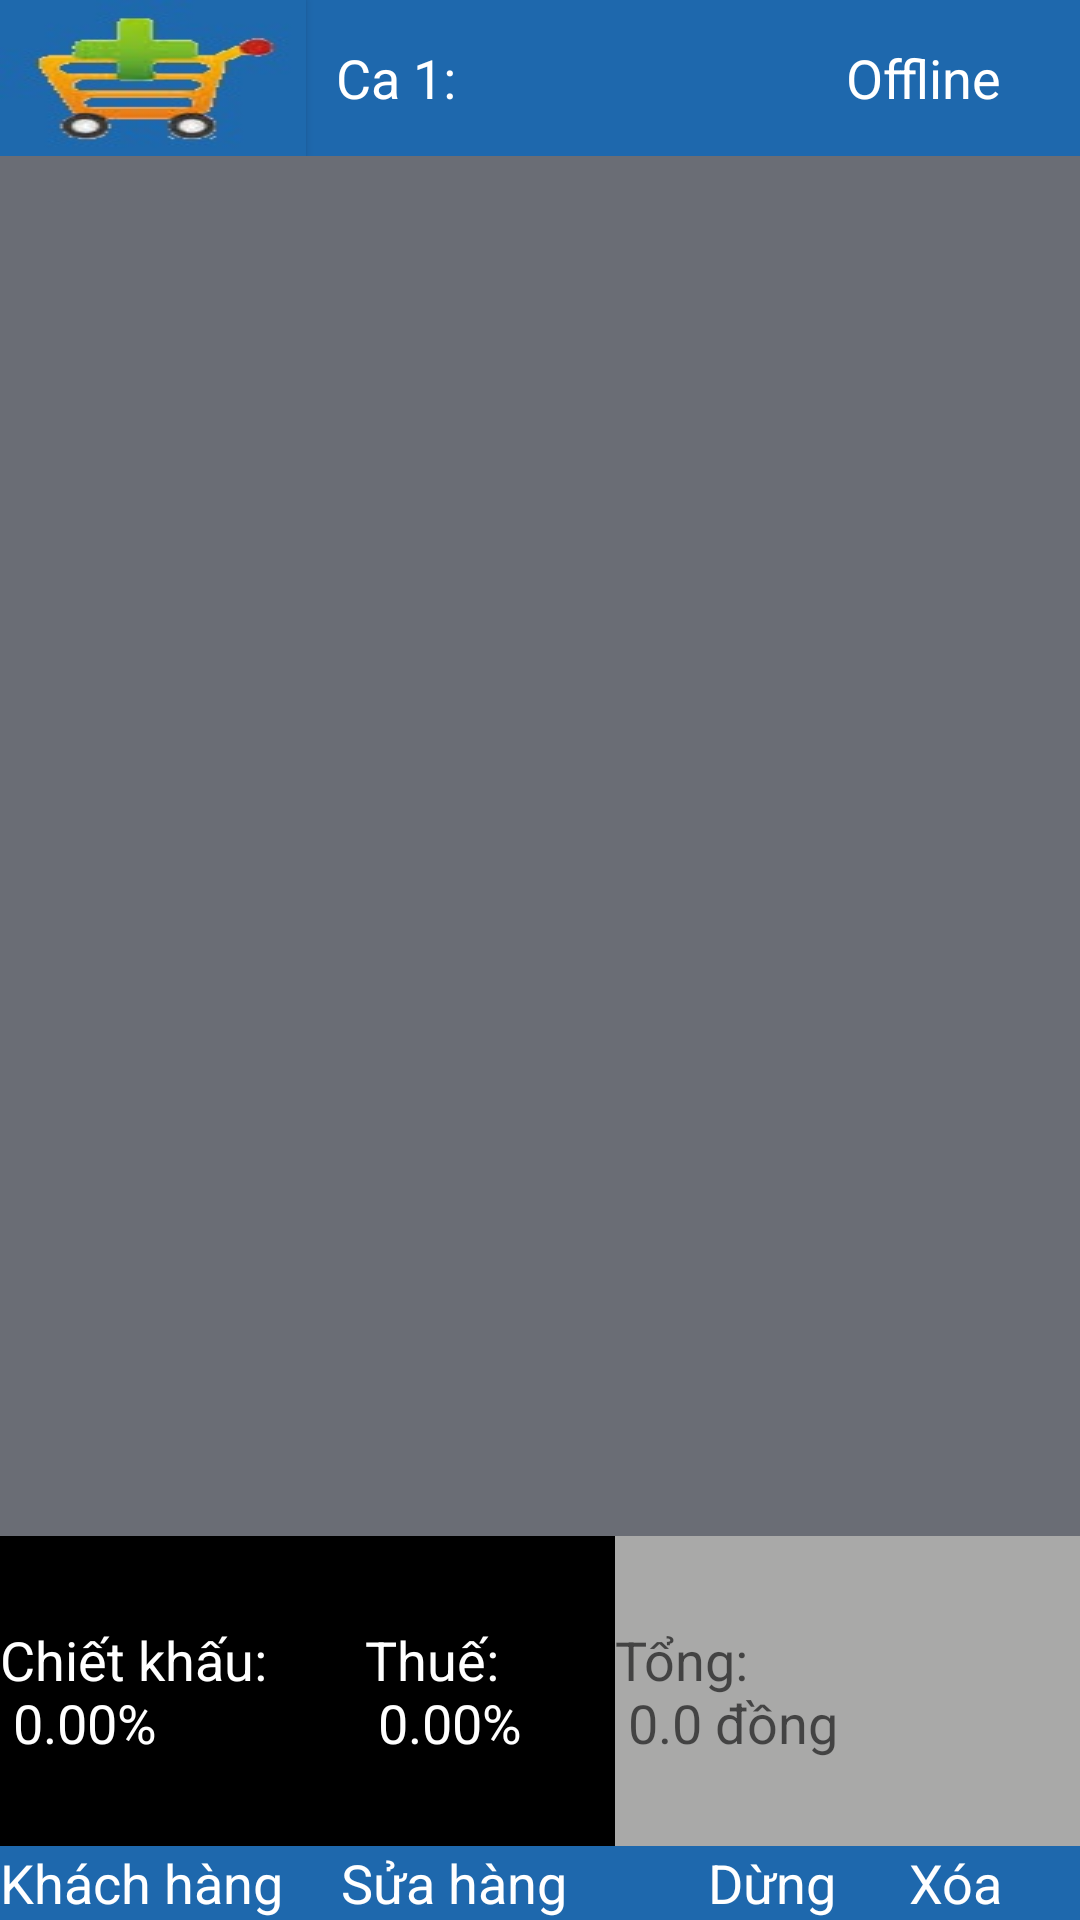

Named icons in this screenshot (1080w x 1920h) and their centers, [x,y]:
add product: [155,79]
